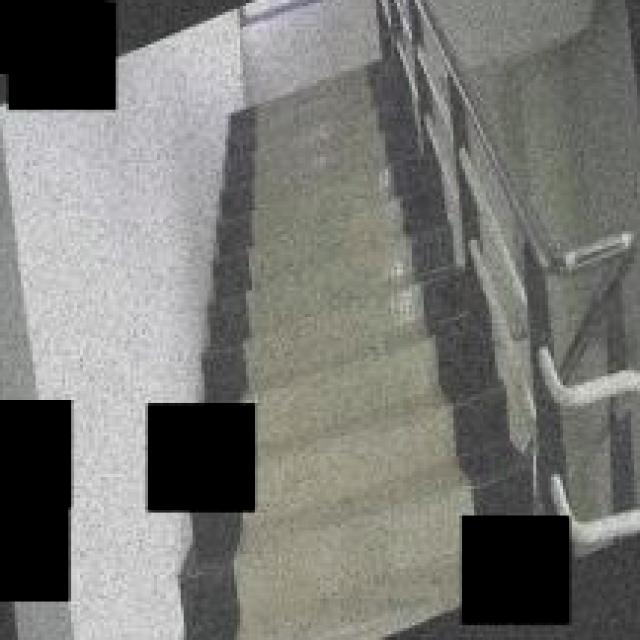upstair: (211, 134, 490, 401)
